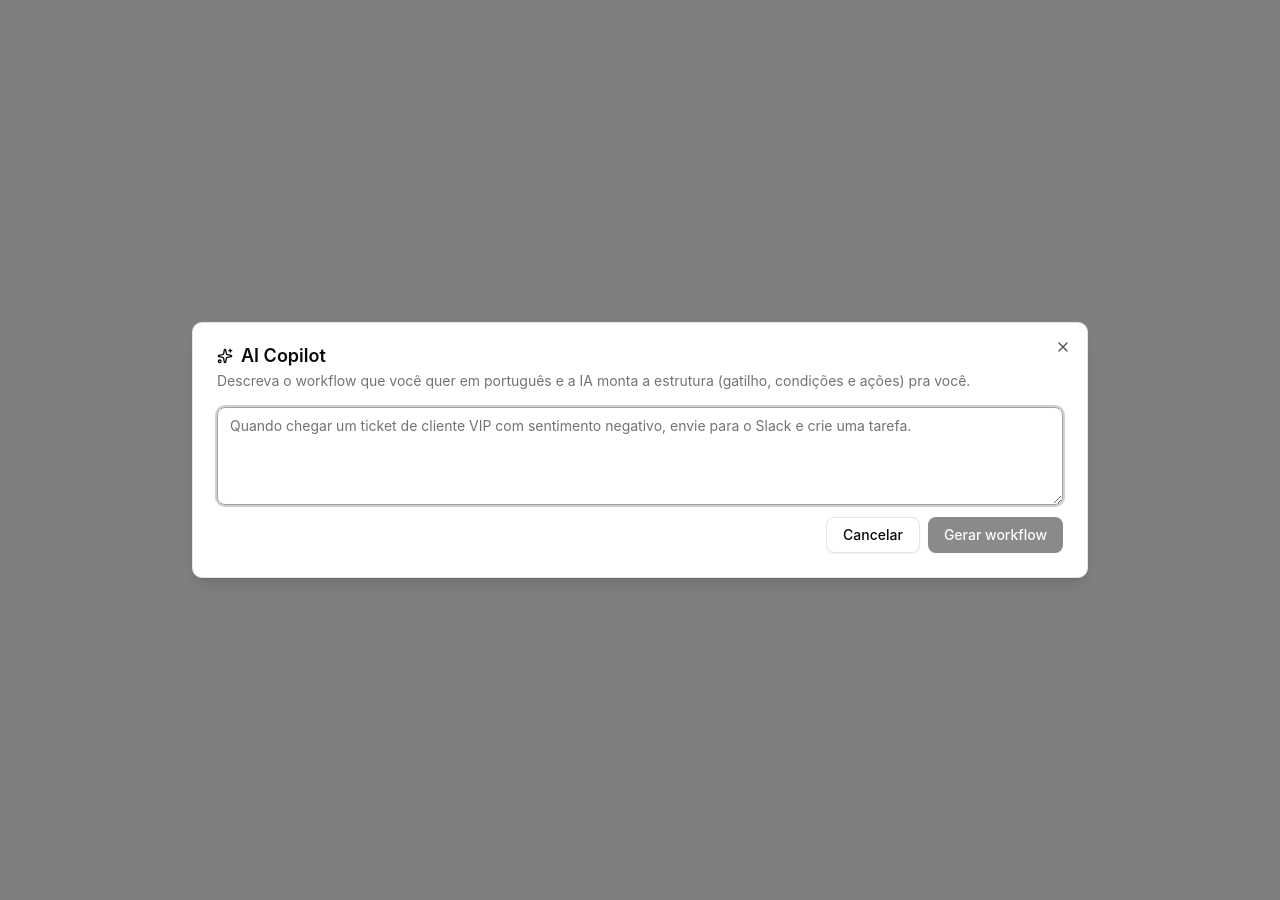
Test: CopilotDialog › desabilita o botão de cancelar enquanto a geração está em andamento
In the text box named "Descrição do workflow": x=640, y=456 x1=217 y1=407 x2=1063 y2=505, type "algo"
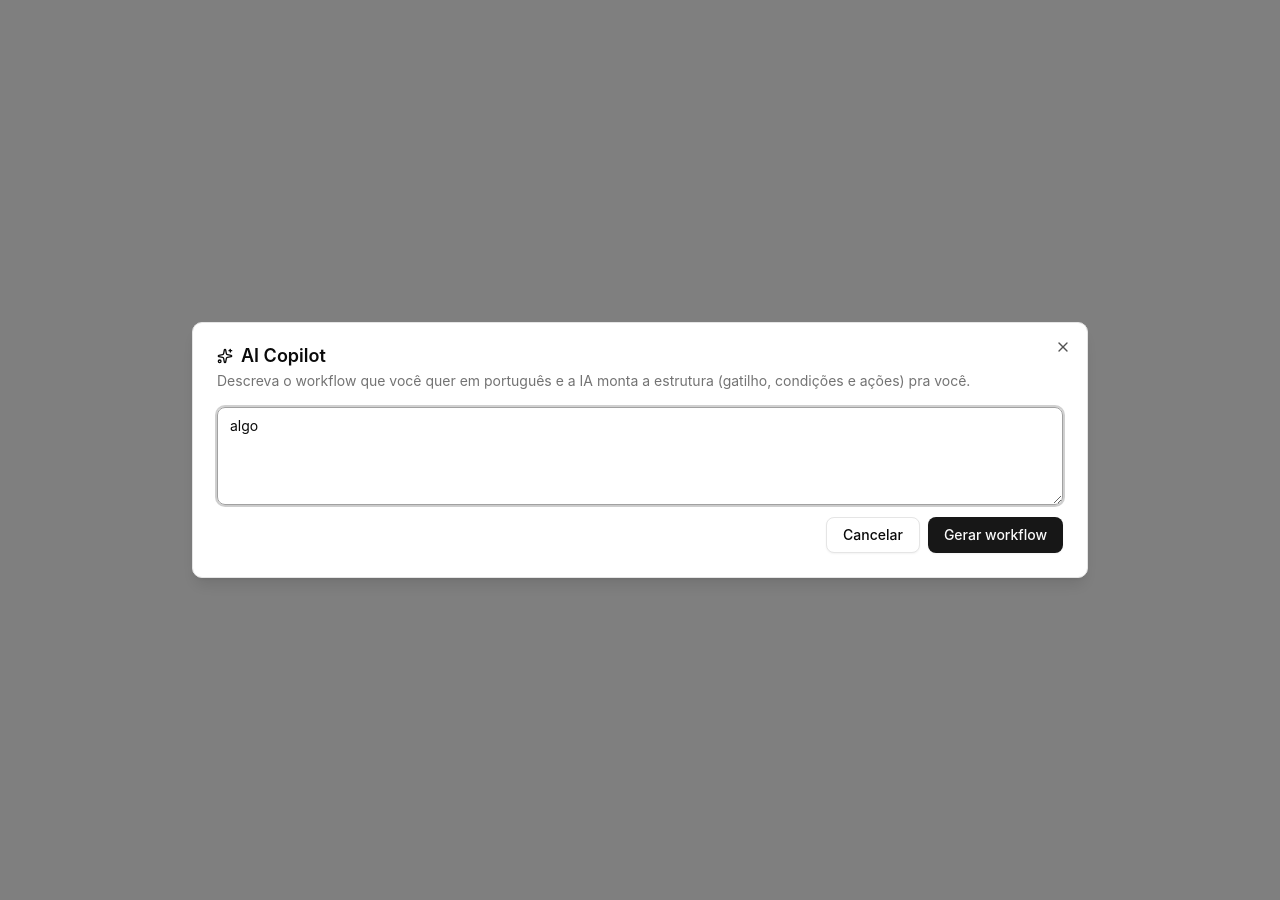
Click the button "Gerar workflow": x=995, y=535 x1=928 y1=517 x2=1063 y2=553
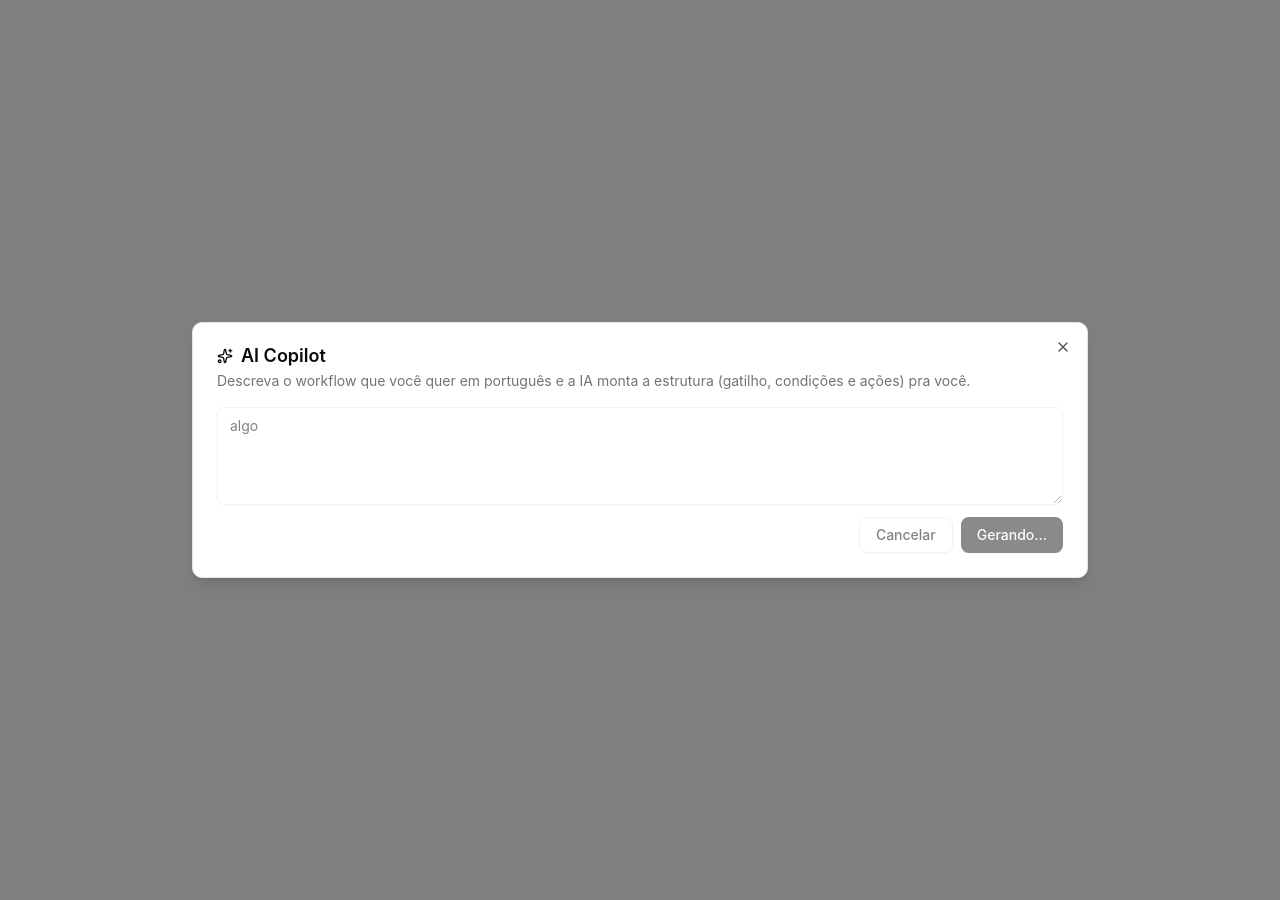
Now the button "Cancelar" is disabled, box x1=859 y1=517 x2=953 y2=553
